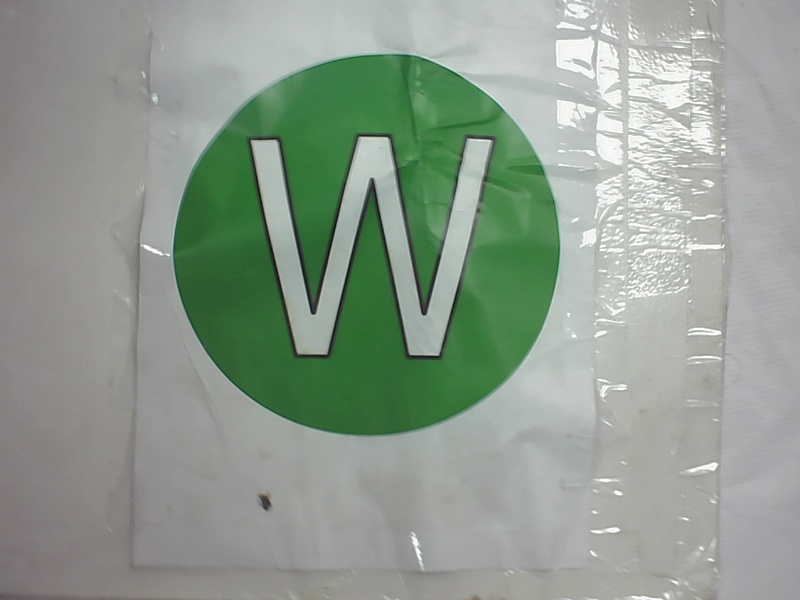areaB: (170, 45, 574, 453)
